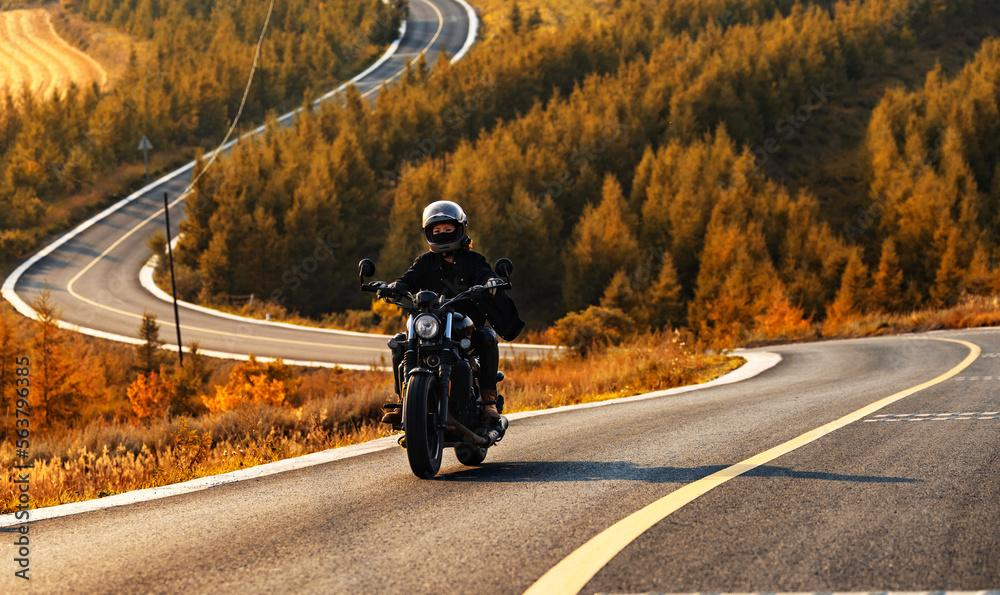helmet: (422, 200, 472, 253)
